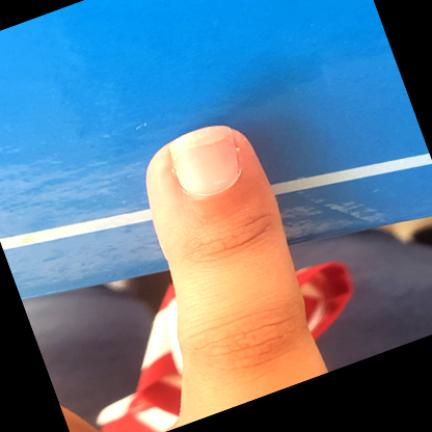Nail: (169, 126, 240, 196)
